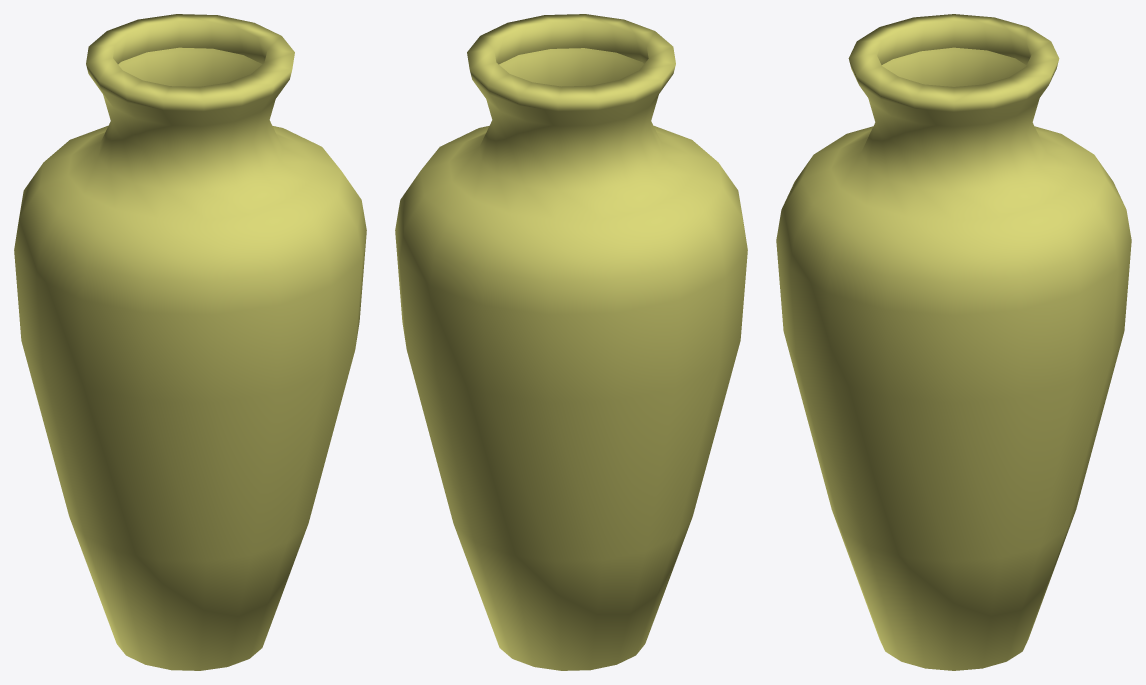
The model's file is vase_green.FBX.
3 renders of one model, left to right at view 1: azimuth 30°, elevation 25°; view 2: azimuth 150°, elevation 25°; view 3: azimuth 270°, elevation 25°, orthographic.
Visible parts, largest first — view 1: Vase; view 2: Vase; view 3: Vase.
Part boxes in pixels (box(x1,y1,x2,y2)): Vase: box(14, 14, 366, 670); Vase: box(395, 14, 747, 670); Vase: box(776, 14, 1131, 670).
Size of the model in its own units: 13.8 by 25.23 by 13.8.
Materials: 1 (1 with a texture image).
